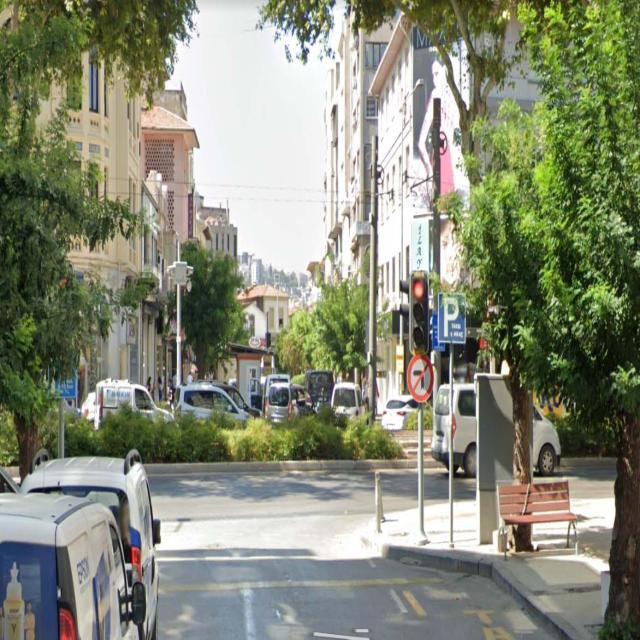kirmizi: (412, 268, 429, 352)
park: (437, 292, 464, 344)
soladonulmez: (408, 356, 432, 403)
